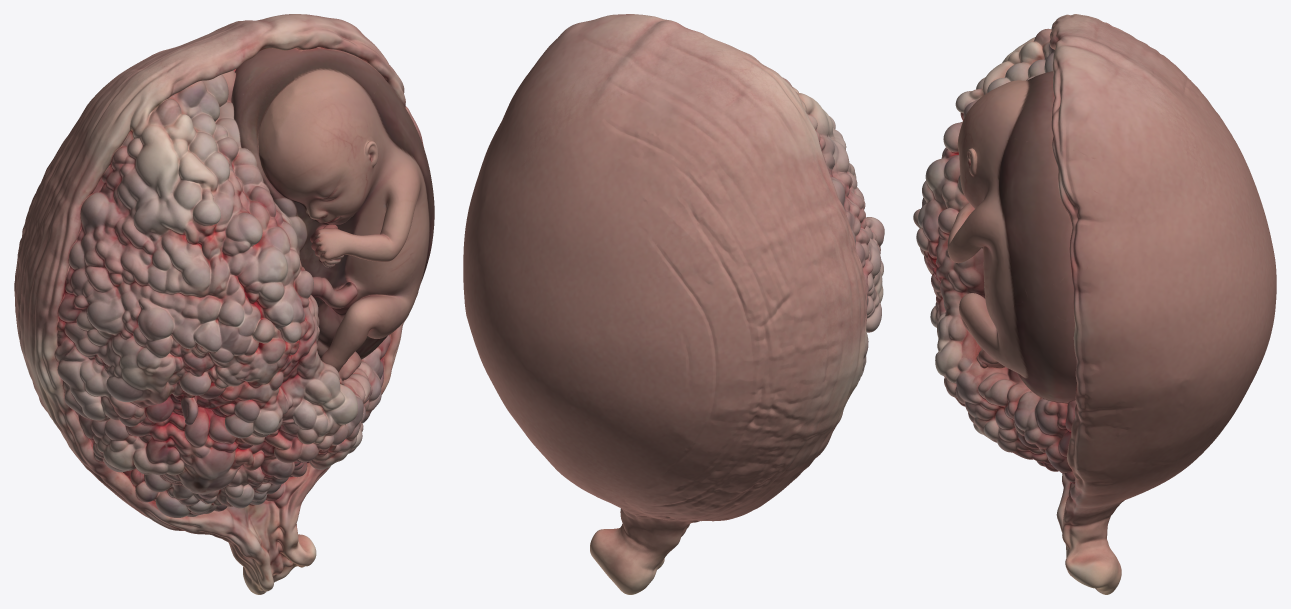
The model's file is mola-v1.glb.
3 views of the same model, side by side, from view 1: azimuth 30°, elevation 25°; view 2: azimuth 150°, elevation 25°; view 3: azimuth 270°, elevation 25° (orthographic). The views are drawn at different scales.
Bounding box in the file's own units: 1.34 × 1.9 × 1.15.
Materials: 1 (1 with a texture image).
